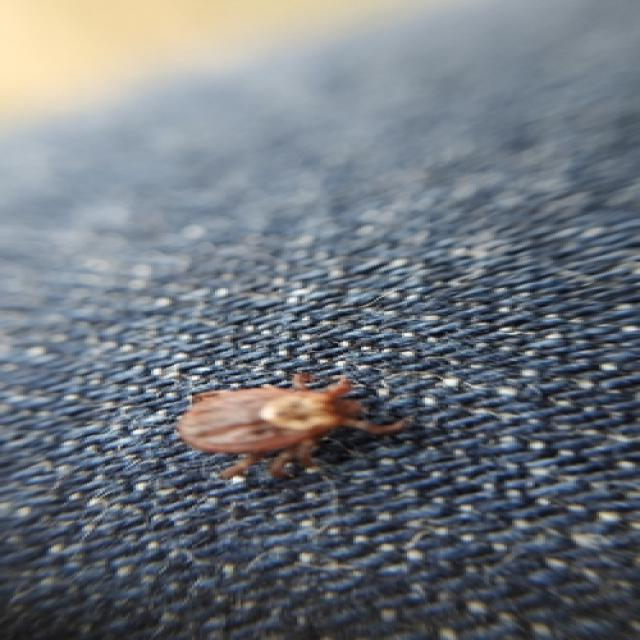Dermacentor Reticulatus-F: (177, 371, 404, 480)
